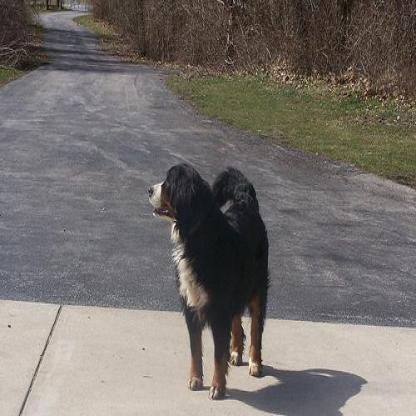Bernese_mountain_dog: (146, 159, 272, 402)
